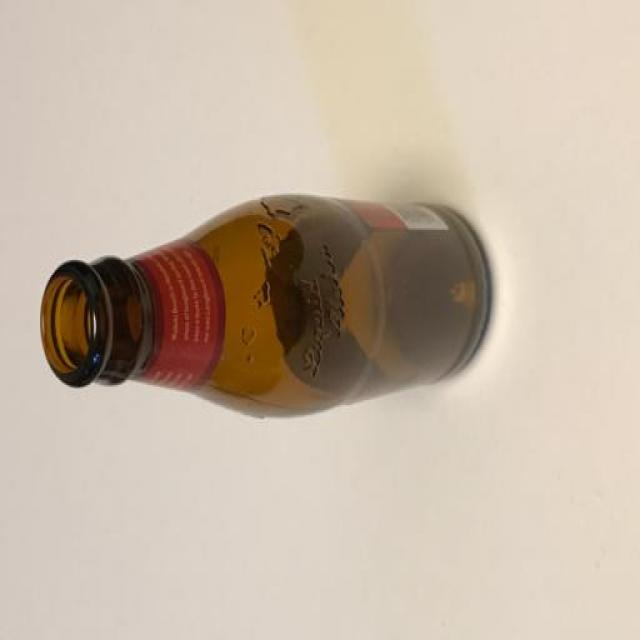glass: (33, 167, 523, 495)
